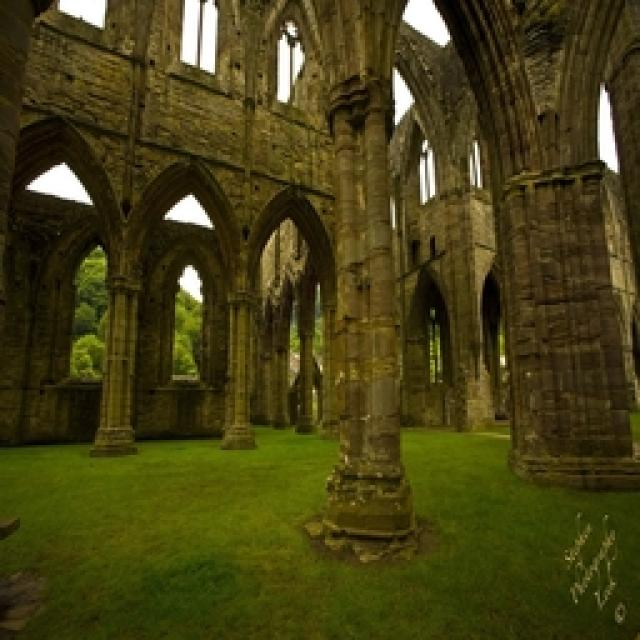Abbey: (77, 13, 639, 480)
